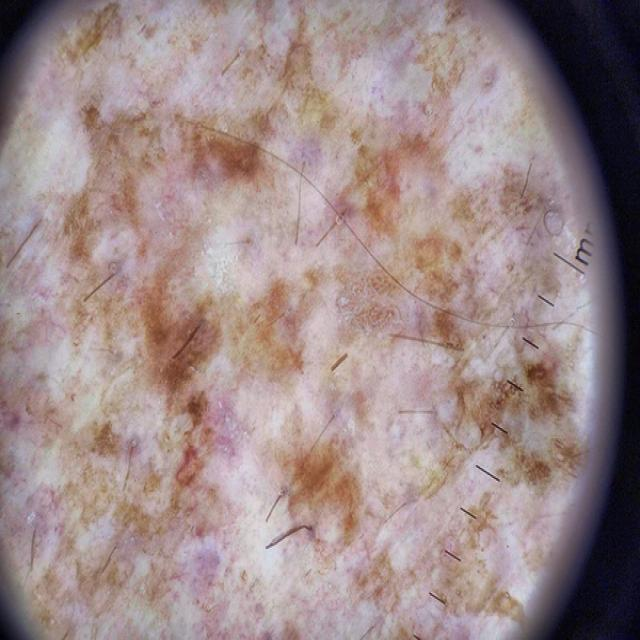Benign-Keratosis-like-Lesions-BKL-: (29, 44, 575, 599)
